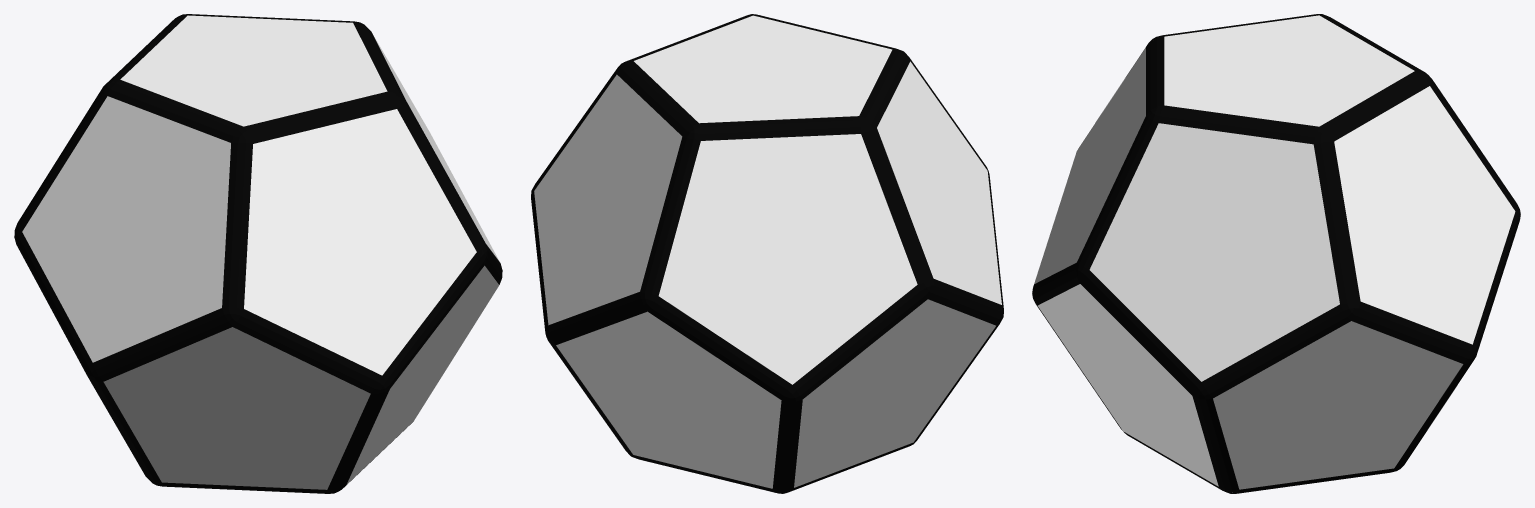
The picture shows the model from 3 angles, left to right: view 1: azimuth 30°, elevation 25°; view 2: azimuth 150°, elevation 25°; view 3: azimuth 270°, elevation 25°; orthographic projection. The views are drawn at different scales.
Parts seen in each view (by area): view 1: 12D; view 2: 12D; view 3: 12D.
Boxes of the visible parts, x1,y1,x2,y2 form: 12D: (14, 14, 502, 493); 12D: (531, 14, 1003, 493); 12D: (1032, 14, 1520, 493).
Size of the model in its own units: 0.9532 by 0.8262 by 1.
1 material, 1 textured.
